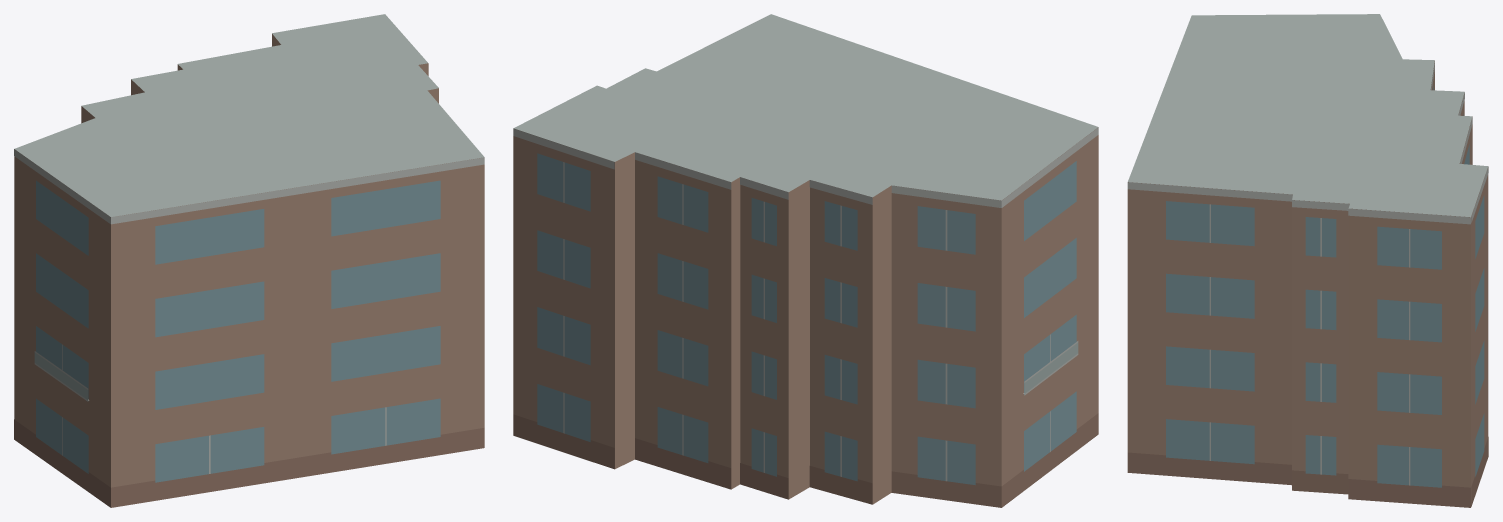
Rendered from survey-upis-32601466.glb.
The picture shows the model from 3 angles, left to right: view 1: azimuth 30°, elevation 25°; view 2: azimuth 150°, elevation 25°; view 3: azimuth 270°, elevation 25°; orthographic projection. The views are drawn at different scales.
Parts seen in each view (by area): view 1: survey-upis-32601466.tmp; view 2: survey-upis-32601466.tmp; view 3: survey-upis-32601466.tmp.
Boxes of the visible parts, x1,y1,x2,y2 form: survey-upis-32601466.tmp: (14,14,484,507); survey-upis-32601466.tmp: (513,14,1098,507); survey-upis-32601466.tmp: (1127,14,1488,507).
Bounding box in the file's own units: 14.73 × 9.81 × 11.04.
